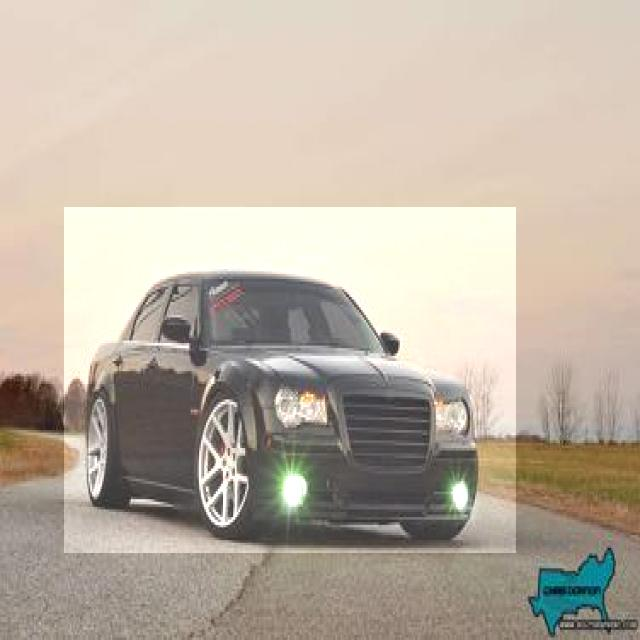Car: (64, 207, 516, 553)
